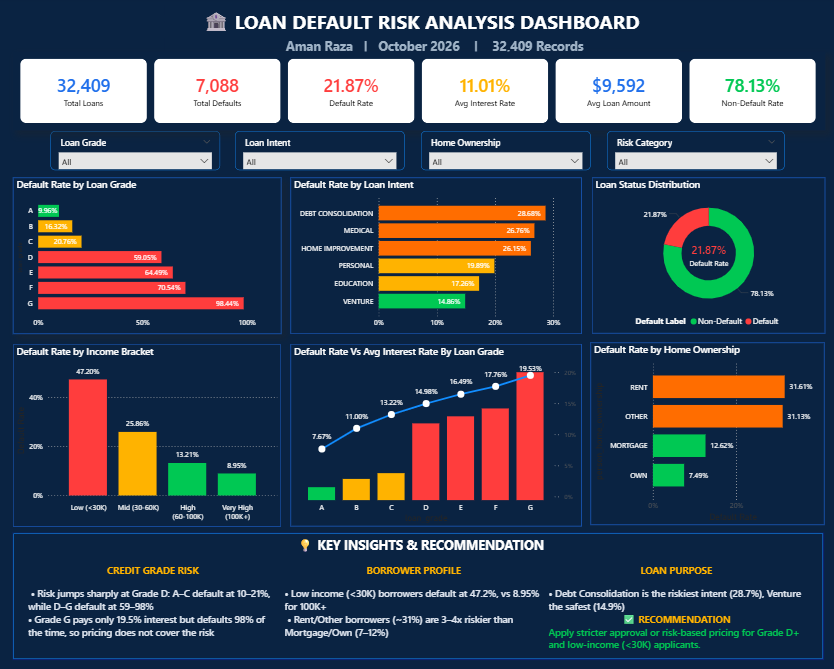

This screenshot's page, from the dashboard's own definition file:
{"tool":"powerbi","page":{"name":"Page 1","canvas":[1400,1130],"ordinal":0},"visuals":[{"type":"slicer","fields":{"Values":["credit_risk_cleaned.loan_grade"]},"box":[87.5,224.7,282.3,65.6],"z":0},{"type":"donutChart","title":"Loan Status Distribution","fields":{"Category":["credit_risk_cleaned.Default_Label"],"Y":["credit_risk_cleaned.Total_Loans"]},"box":[988.9,302.2,388.9,260],"z":1000},{"type":"textbox","box":[278.4,13.9,864.9,93.4],"z":2000},{"type":"cardVisual","fields":{"Data":["credit_risk_cleaned.Total_Loans","credit_risk_cleaned.Total_Defaults","credit_risk_cleaned.Default_Rate","credit_risk_cleaned.Avg_Interest_Rate","credit_risk_cleaned.Avg_Loan_Amount","credit_risk_cleaned.Recovery_Rate"]},"box":[23.9,93.4,1354,131.2],"z":3000},{"type":"clusteredBarChart","title":"Default Rate by Loan Grade","fields":{"Category":["credit_risk_cleaned.loan_grade"],"Y":["credit_risk_cleaned.Default Rate"]},"box":[23.9,302.2,447.4,260.5],"z":4000},{"type":"clusteredBarChart","title":"Default Rate by Loan Intent","fields":{"Category":["credit_risk_cleaned.loan_intent"],"Y":["credit_risk_cleaned.Default_Rate"]},"box":[487.1,302.2,485.1,260.5],"z":5000},{"type":"clusteredColumnChart","title":"Default Rate by Income Bracket","fields":{"Category":["credit_risk_cleaned.Income_Bracket"],"Y":["credit_risk_cleaned.Default_Rate"]},"box":[24.4,580,446.7,304.4],"z":6000},{"type":"clusteredBarChart","title":"Default Rate by Home Ownership","fields":{"Category":["credit_risk_cleaned.person_home_ownership"],"Y":["credit_risk_cleaned.Default Rate"]},"box":[988.2,578.6,389.7,304.2],"z":7000},{"type":"lineClusteredColumnComboChart","title":"Default Rate Vs Avg Interest Rate By Loan Grade ","fields":{"Category":["credit_risk_cleaned.loan_grade"],"Y2":["credit_risk_cleaned.Avg Interest Rate"],"Y":["credit_risk_cleaned.Default Rate"]},"box":[487.1,580.6,485.1,304.2],"z":8000},{"type":"slicer","fields":{"Values":["credit_risk_cleaned.loan_intent"]},"box":[395.7,224.7,282.3,65.6],"z":9000},{"type":"slicer","fields":{"Values":["credit_risk_cleaned.person_home_ownership"]},"box":[703.8,224.7,282.3,65.6],"z":10000},{"type":"shape","box":[25.7,894.3,1351.4,211.4],"z":11000},{"type":"cardVisual","fields":{"Data":["credit_risk_cleaned.Default Rate"]},"box":[1121.4,391.7,125.3,79.5],"z":12000},{"type":"slicer","fields":{"Values":["credit_risk_cleaned.Risk Category"]},"box":[1014,224.7,296.3,65.6],"z":13000},{"type":"textbox","box":[491.4,894.3,440,45.7],"z":14000},{"type":"textbox","box":[45.7,940,425.7,148.6],"z":15000},{"type":"textbox","box":[471.4,940.5,440.5,147.6],"z":16000},{"type":"textbox","box":[911.9,940.5,440.5,166.7],"z":17000}]}

Visuals, with their boxes in screenshot pixels (x1, y1, x2, y2), scaled from the page's 1400x1130 canvas onto the 834x669 screenshot:
slicer - credit_risk_cleaned.loan_grade: l=52, t=133, r=220, b=172
"Loan Status Distribution" donutChart: l=589, t=179, r=821, b=333
textbox: l=166, t=8, r=681, b=64
cardVisual - credit_risk_cleaned.Total_Loans x credit_risk_cleaned.Total_Defaults: l=14, t=55, r=821, b=133
"Default Rate by Loan Grade" clusteredBarChart: l=14, t=179, r=281, b=333
"Default Rate by Loan Intent" clusteredBarChart: l=290, t=179, r=579, b=333
"Default Rate by Income Bracket" clusteredColumnChart: l=15, t=343, r=281, b=524
"Default Rate by Home Ownership" clusteredBarChart: l=589, t=343, r=821, b=523
"Default Rate Vs Avg Interest Rate By Loan Grade " lineClusteredColumnComboChart: l=290, t=344, r=579, b=524
slicer - credit_risk_cleaned.loan_intent: l=236, t=133, r=404, b=172
slicer - credit_risk_cleaned.person_home_ownership: l=419, t=133, r=587, b=172
shape: l=15, t=529, r=820, b=655
cardVisual - credit_risk_cleaned.Default Rate: l=668, t=232, r=743, b=279
slicer - credit_risk_cleaned.Risk Category: l=604, t=133, r=781, b=172
textbox: l=293, t=529, r=555, b=557
textbox: l=27, t=557, r=281, b=644
textbox: l=281, t=557, r=543, b=644
textbox: l=543, t=557, r=806, b=656
